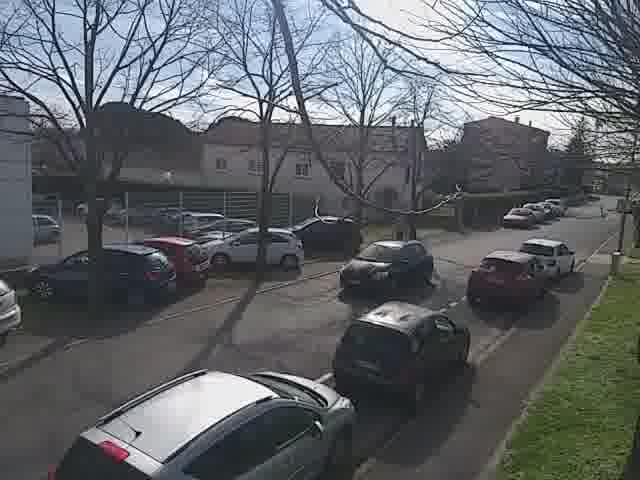persona: (391, 207, 413, 240)
